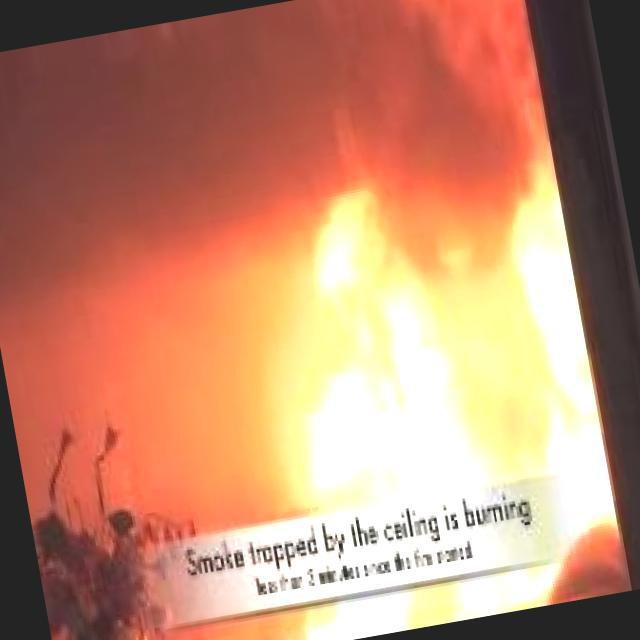fire: (294, 158, 611, 502)
smoke: (0, 0, 553, 293)
